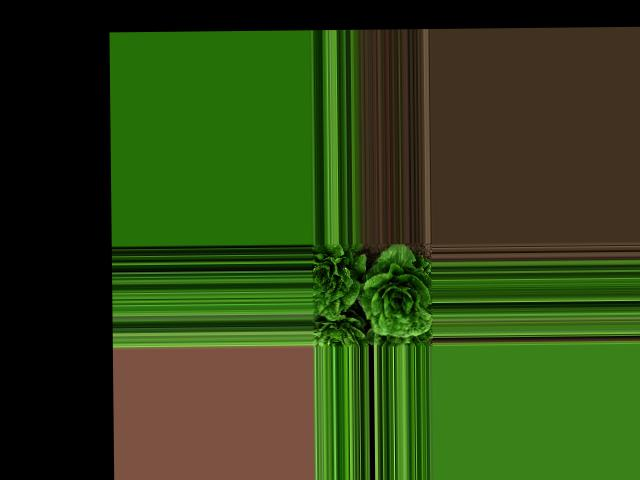lettuce: (310, 245, 360, 321)
